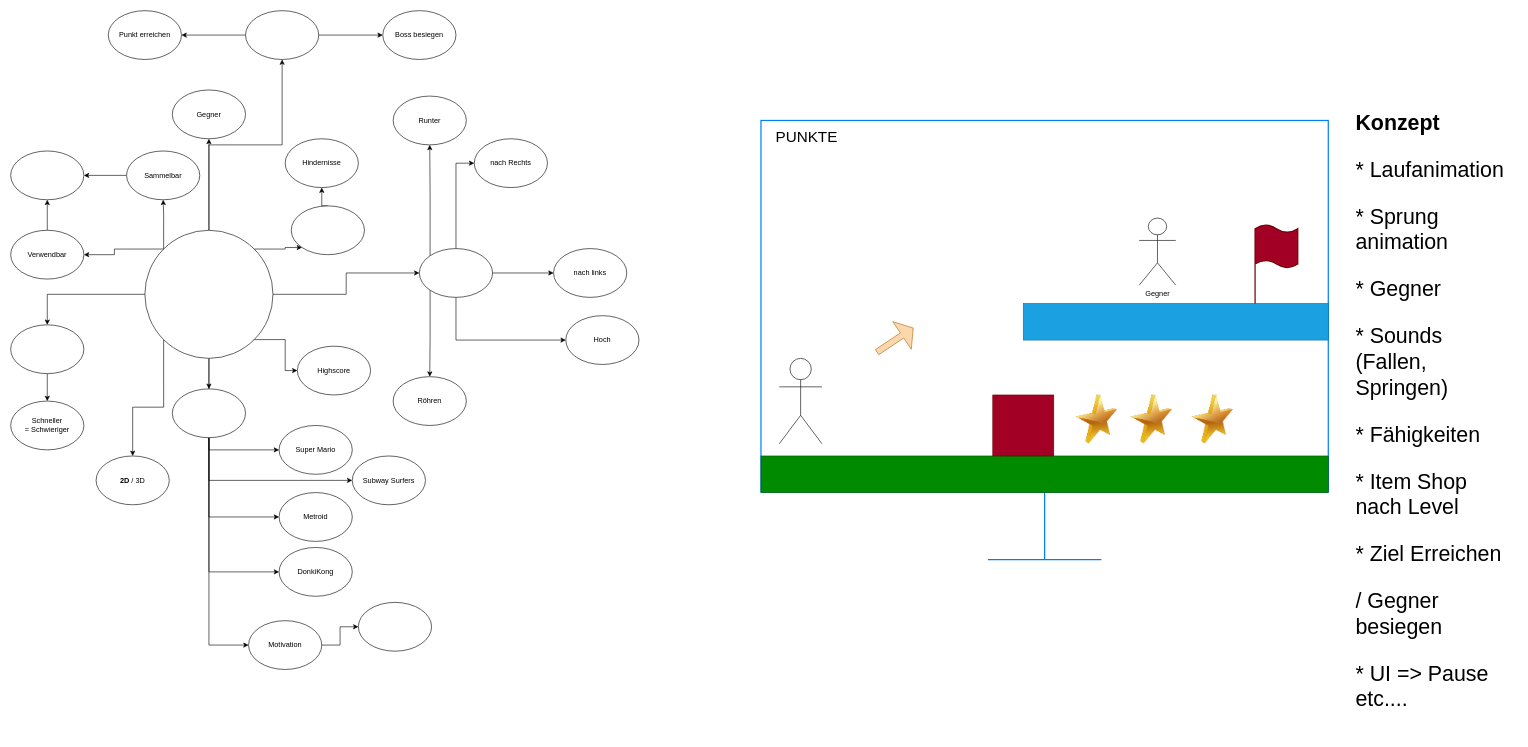
The diagram is 1528 pixels wide and 747 high, and some of its shapes have lost their labels. The shapes that lost their labels are listed below. From the top down, each one's centre as x and y in pixels, then its label:
At [282,34]: "Ziele".
At [47,175]: "Items".
At [327,230]: "Springen".
At [456,272]: "Level".
At [208,294]: "Jump n Run".
At [47,349]: "Zeit".
At [209,413]: "Beispiele".
At [800,401]: "Actor".
At [395,626]: "Simpel".
